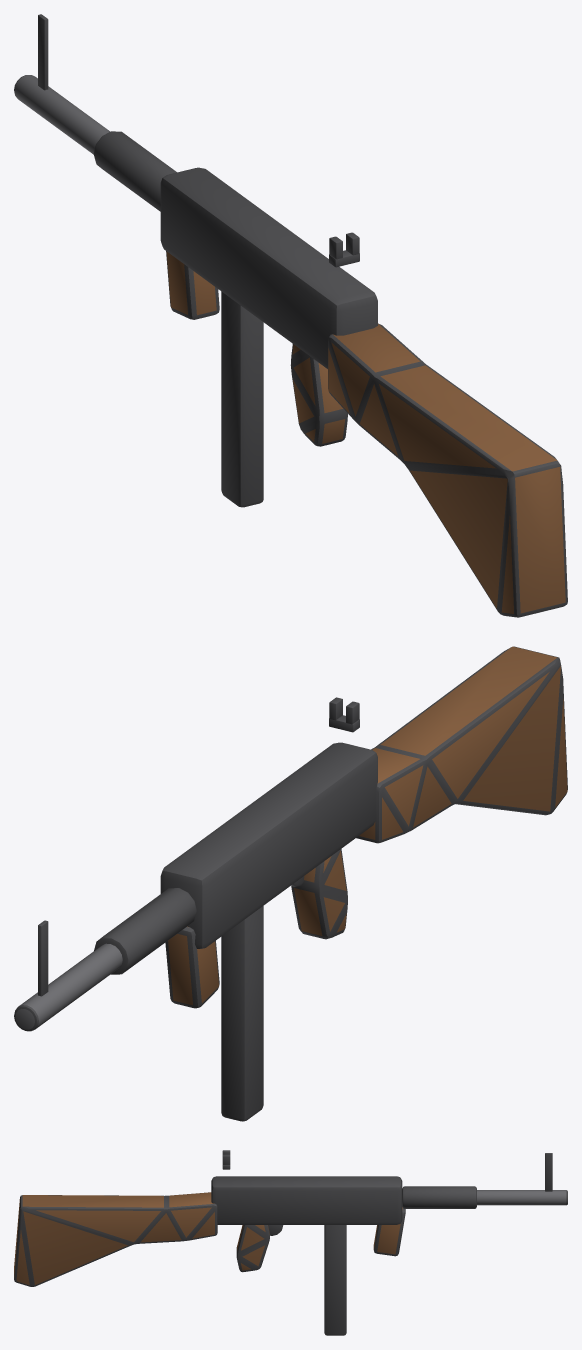
File: thompson.glb
3 views of the same model, one above another, from view 1: azimuth 30°, elevation 25°; view 2: azimuth 150°, elevation 25°; view 3: azimuth 270°, elevation 25° (orthographic). The views are drawn at different scales.
Visible parts, largest first — view 1: thompson_LOD0; view 2: thompson_LOD0; view 3: thompson_LOD0.
Boxes of the visible parts, x1,y1,x2,y2 form: thompson_LOD0: (14, 14, 567, 617); thompson_LOD0: (14, 646, 567, 1121); thompson_LOD0: (14, 1150, 567, 1335).
Size of the model in its own units: 0.0518 by 0.312 by 0.8697.
